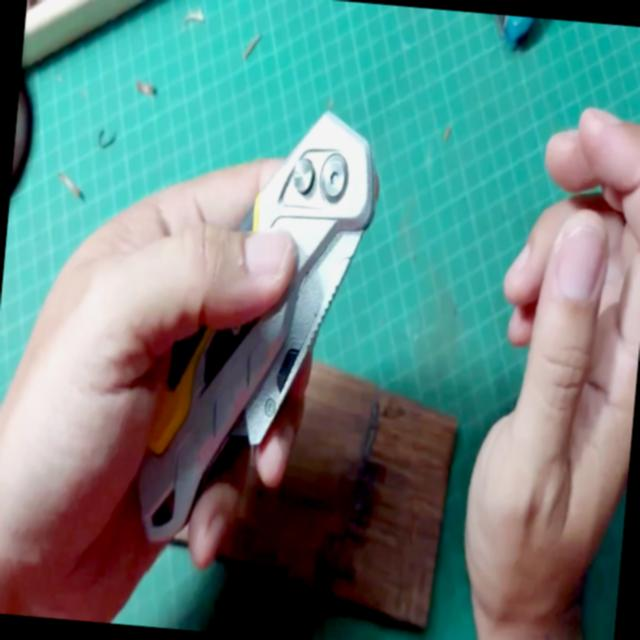cutter: (0, 16, 407, 640)
